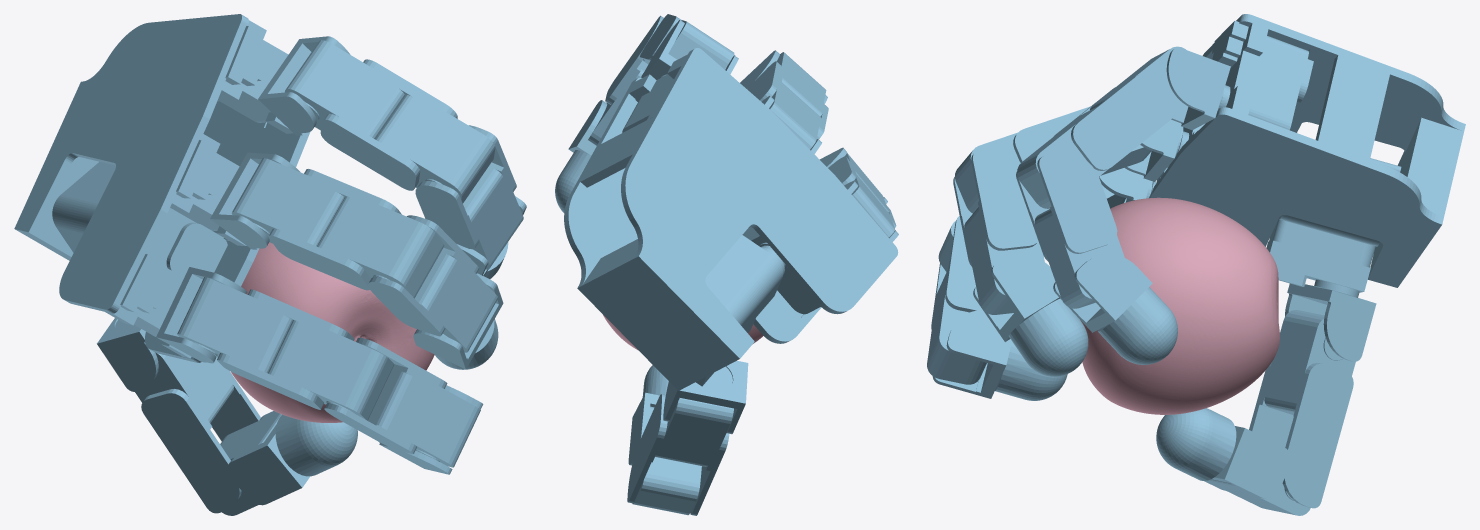
The model's file is Allegro_contactdb+apple_mesh.glb.
The picture shows the model from 3 angles, left to right: view 1: azimuth 30°, elevation 25°; view 2: azimuth 150°, elevation 25°; view 3: azimuth 270°, elevation 25°; orthographic projection. The views are drawn at different scales.
Visible parts, largest first — view 1: world; view 2: world; view 3: world.
Boxes of the visible parts, x1,y1,x2,y2 form: world: [14, 14, 526, 515]; world: [555, 14, 898, 515]; world: [927, 14, 1465, 515].
Size of the model in its own units: 0.1537 by 0.1922 by 0.1896.
